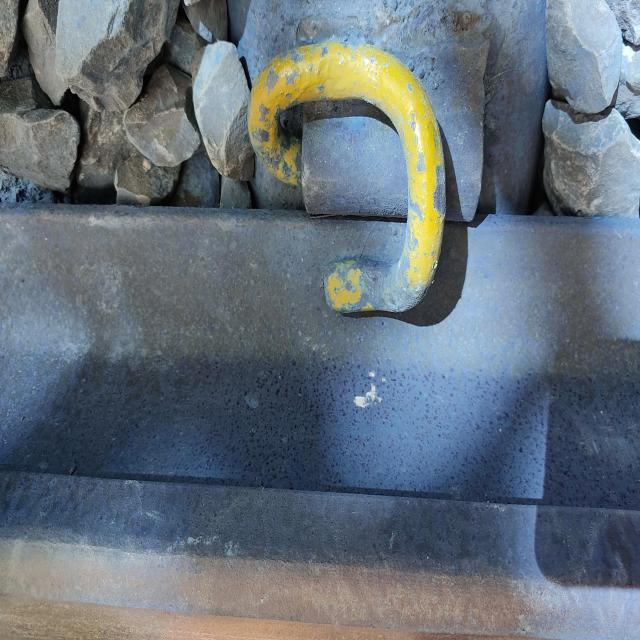Good Fasteners: (192, 0, 546, 325)
